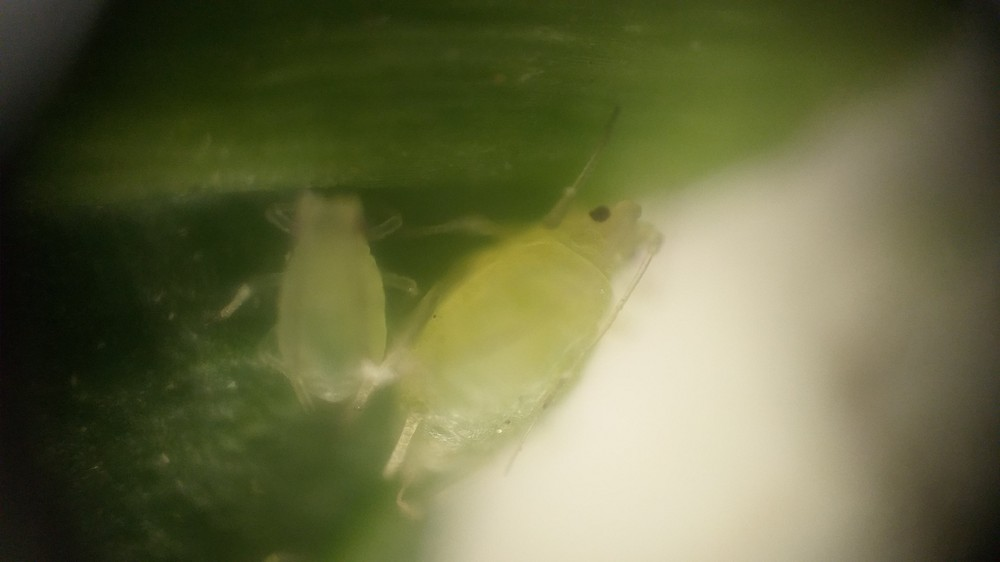Pulgon: (394, 108, 677, 535), (208, 148, 420, 433)
